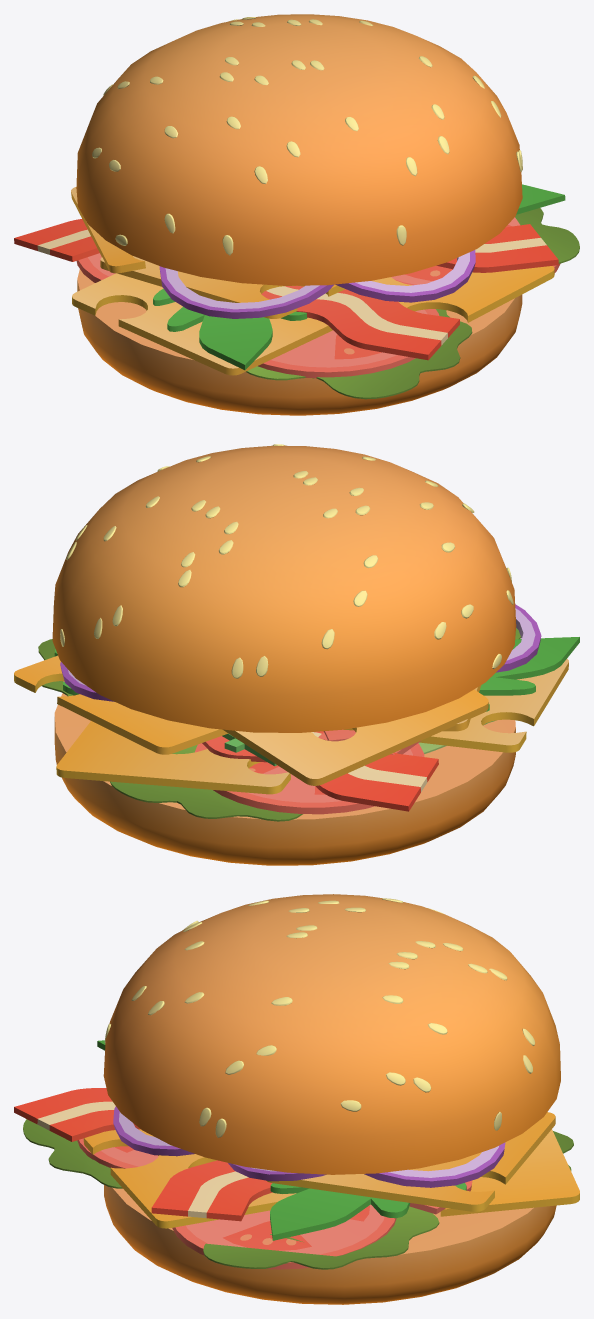
3 views of the same model, one above another, from view 1: azimuth 30°, elevation 25°; view 2: azimuth 150°, elevation 25°; view 3: azimuth 270°, elevation 25° (orthographic). The views are drawn at different scales.
Parts seen in each view (by area): view 1: Burger_Wrapped_W_Blue_Changed; view 2: Burger_Wrapped_W_Blue_Changed; view 3: Burger_Wrapped_W_Blue_Changed.
Boxes of the visible parts, <box> form: Burger_Wrapped_W_Blue_Changed: <box>14,14,579,415</box>; Burger_Wrapped_W_Blue_Changed: <box>14,444,579,865</box>; Burger_Wrapped_W_Blue_Changed: <box>14,894,579,1304</box>.
Bounding box in the file's own units: 9.66 × 5.63 × 10.
1 material, 1 textured.
